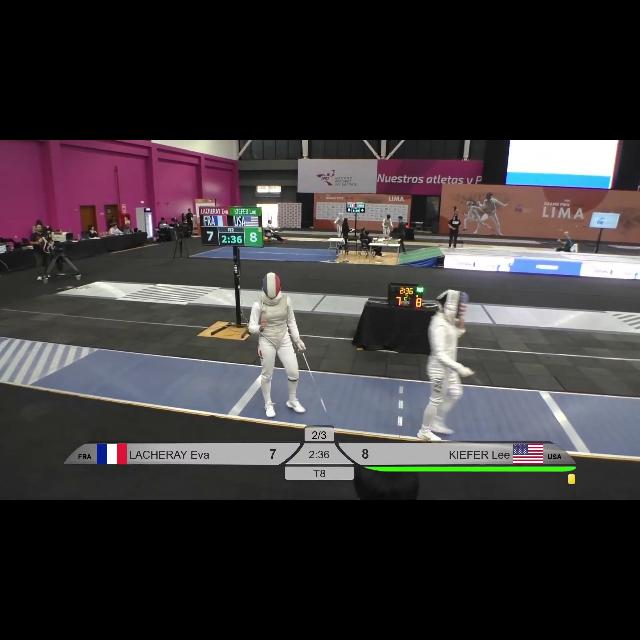blade: (299, 344, 335, 426)
